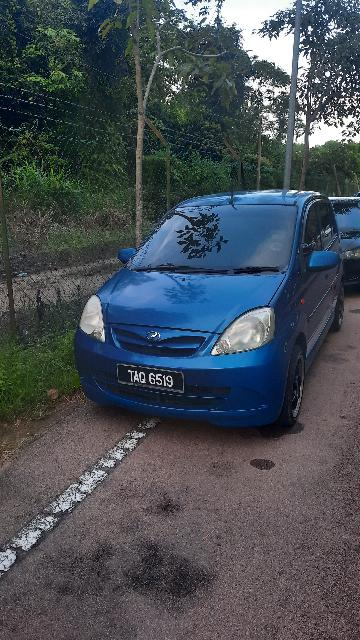License_Plate: (113, 360, 190, 399)
car: (72, 187, 355, 443)
